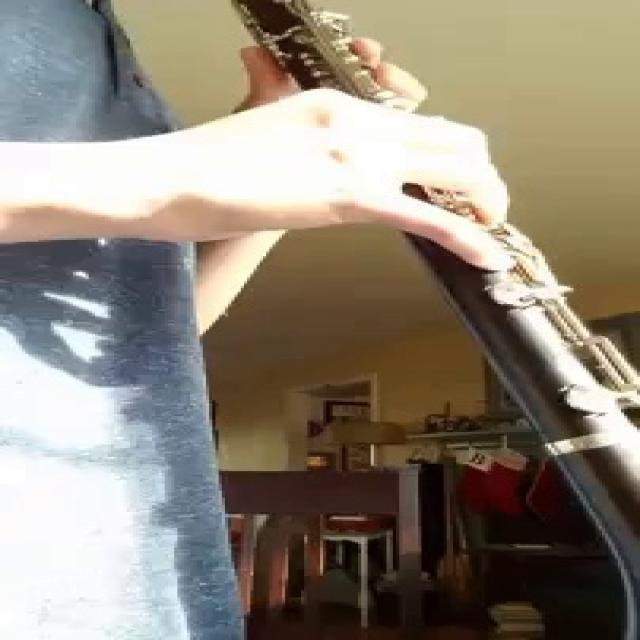Clarinet: (223, 1, 640, 640)
